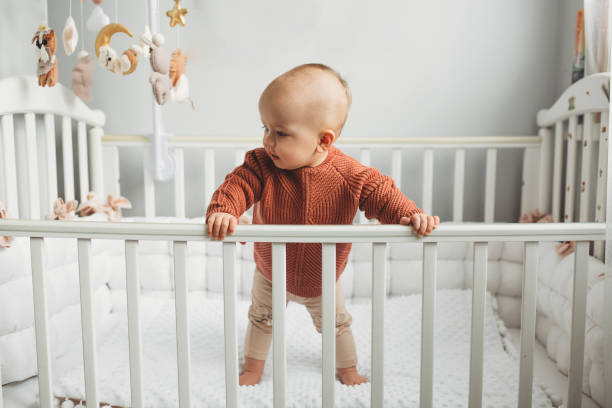baby: (206, 64, 438, 238)
crib: (222, 74, 611, 406)
